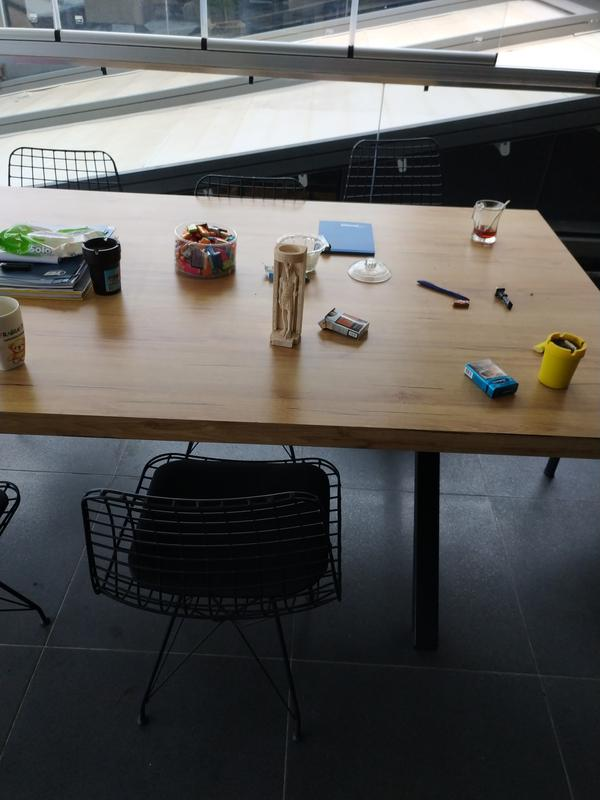heykel: (266, 239, 310, 351)
